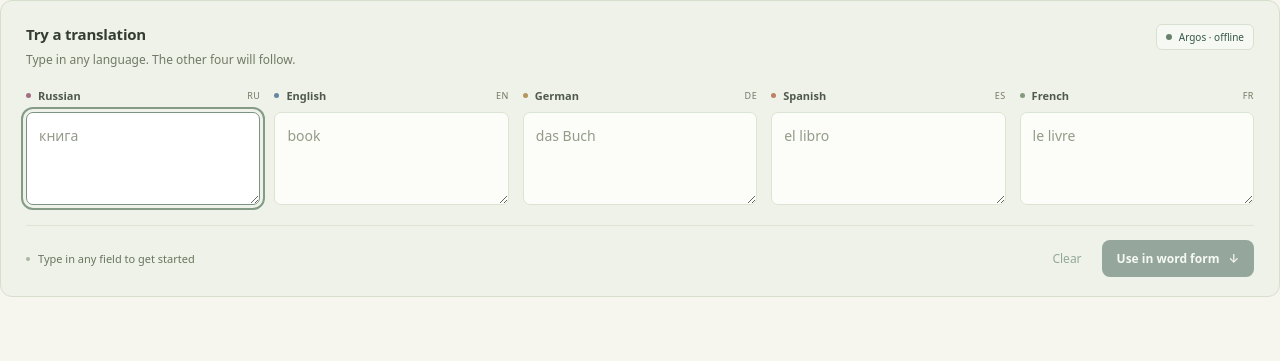
Test: live translation requests › keeps the source after a current failure and retries it explicitly
The image size is (1280, 361).
Type "bonjour" into the text box named "Translate French FR" at (1137,159), box [1020,112,1254,205]
Wait 500 ms
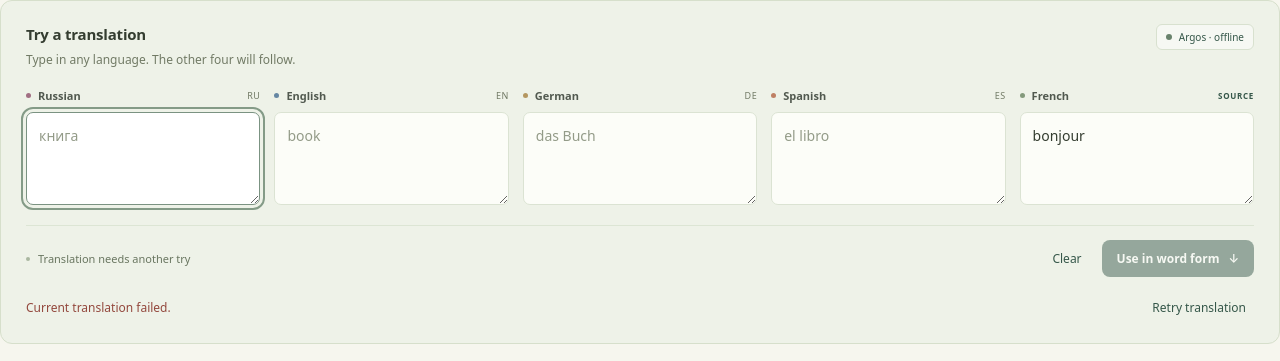
Expected: the button "Use in word form ↓" is disabled, [1102,240,1254,277]
Expected: the text "Current translation failed." is shown, [26,299,171,316]
Click the button "Retry translation" at (1199,308), box [1144,291,1254,324]
Wait 500 ms
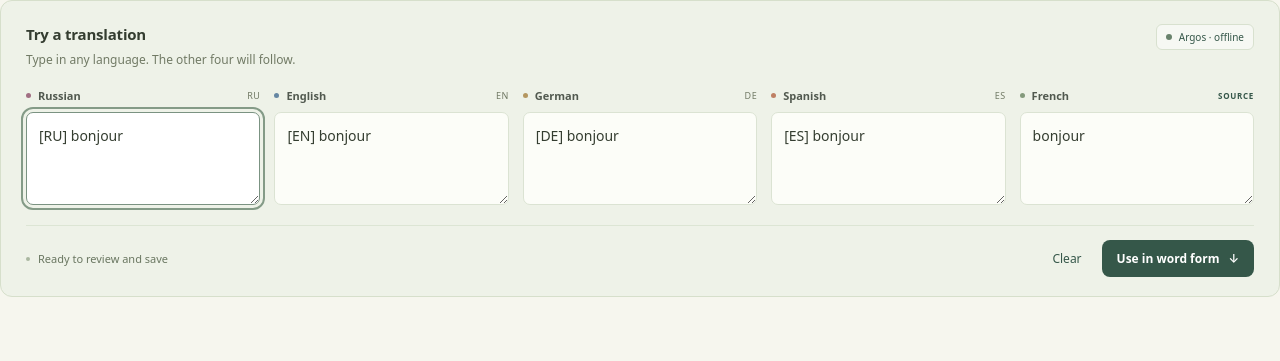
Expected: the text "Current translation failed." is gone
Expected: the button "Use in word form ↓" is enabled, [1102,240,1254,277]
